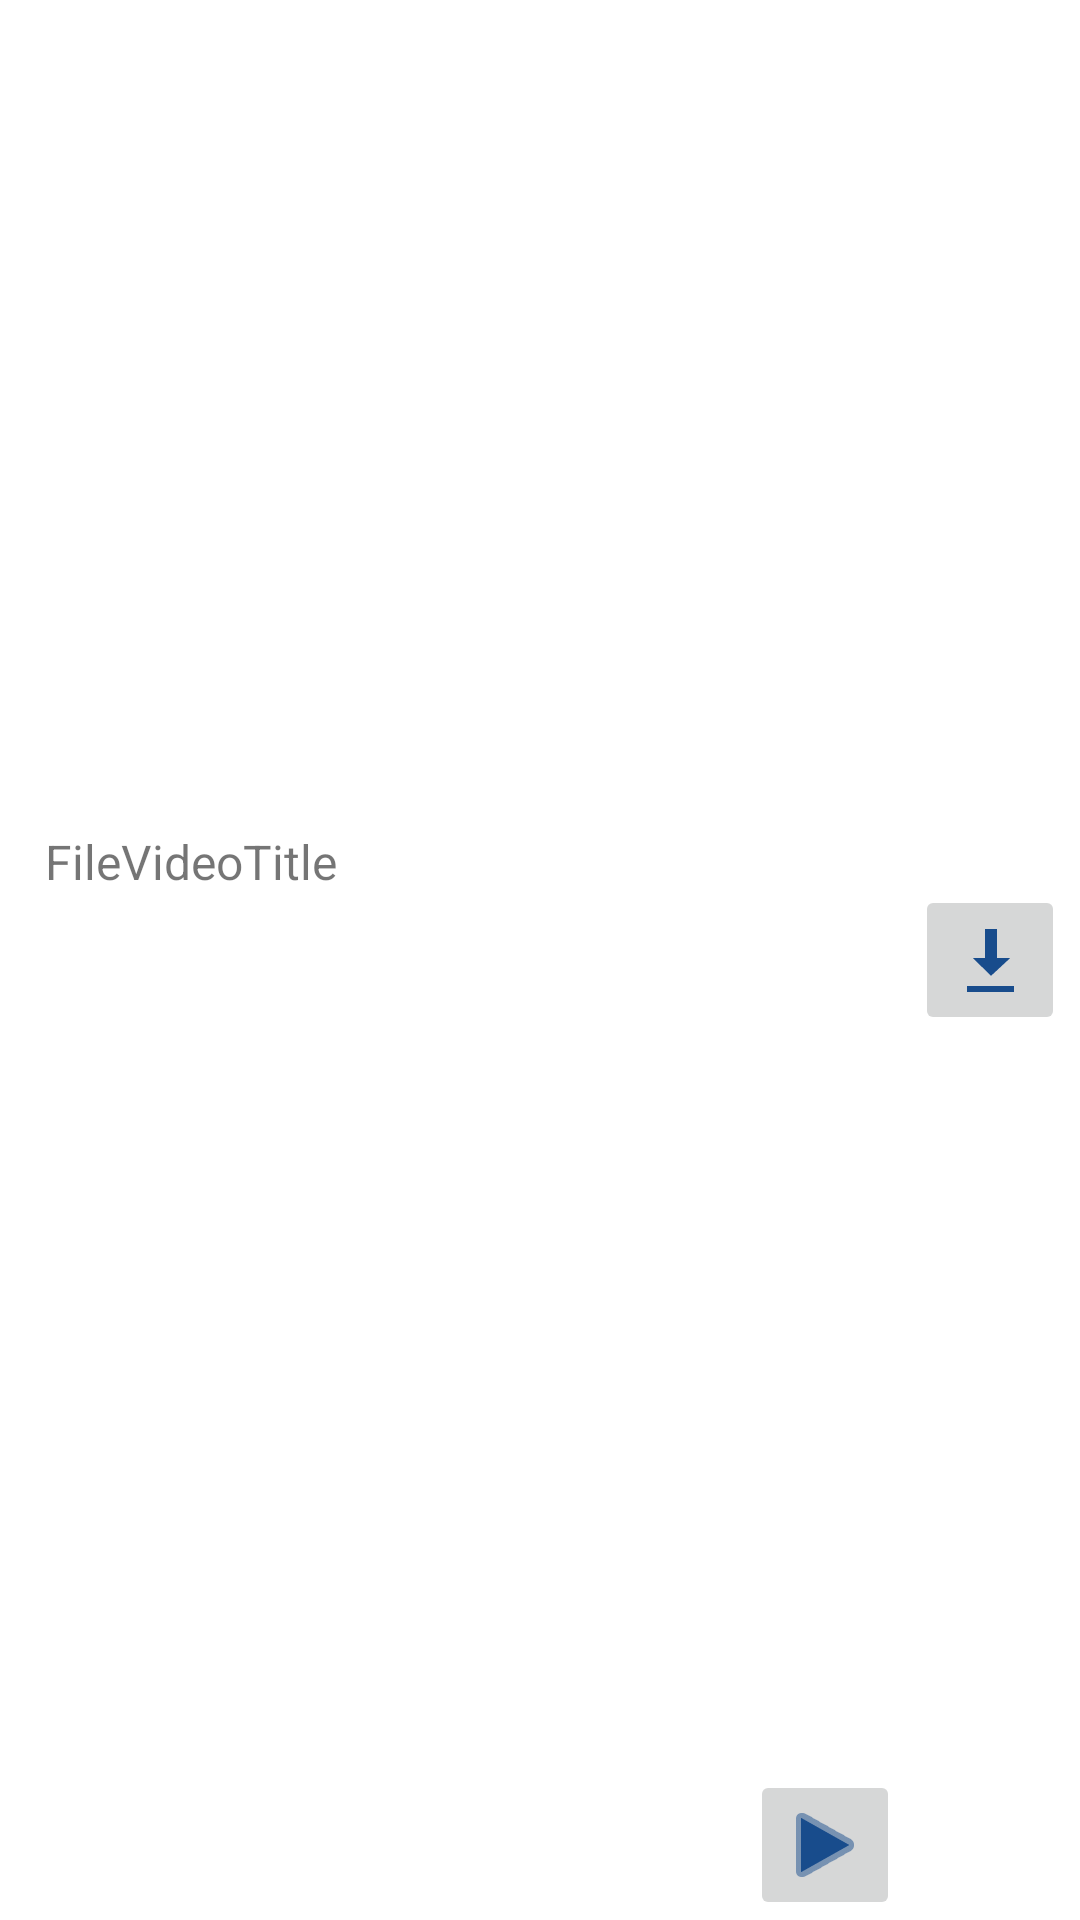

Screen size 1080 x 1920. Icon name, then its center in pixels as (x,y):
download: (990,960)
play: (825,1845)
